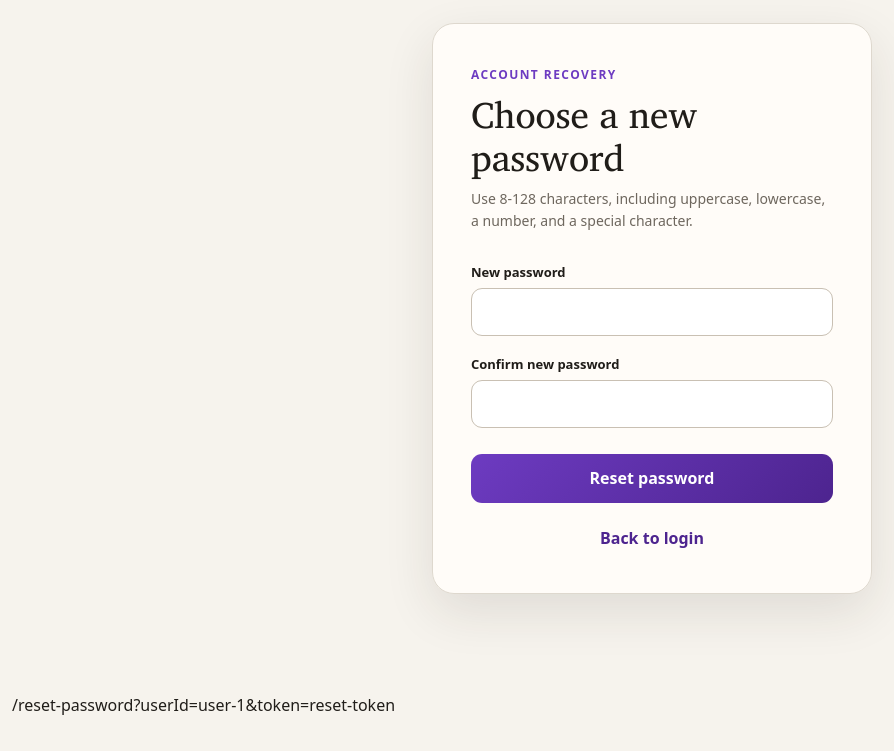
LoginPage › returns from password reset confirmation to login
This screenshot has width=894, height=751.
Click the button "Back to login" at x=652, y=538, box x1=471 y1=521 x2=833 y2=555
(page scrolled)
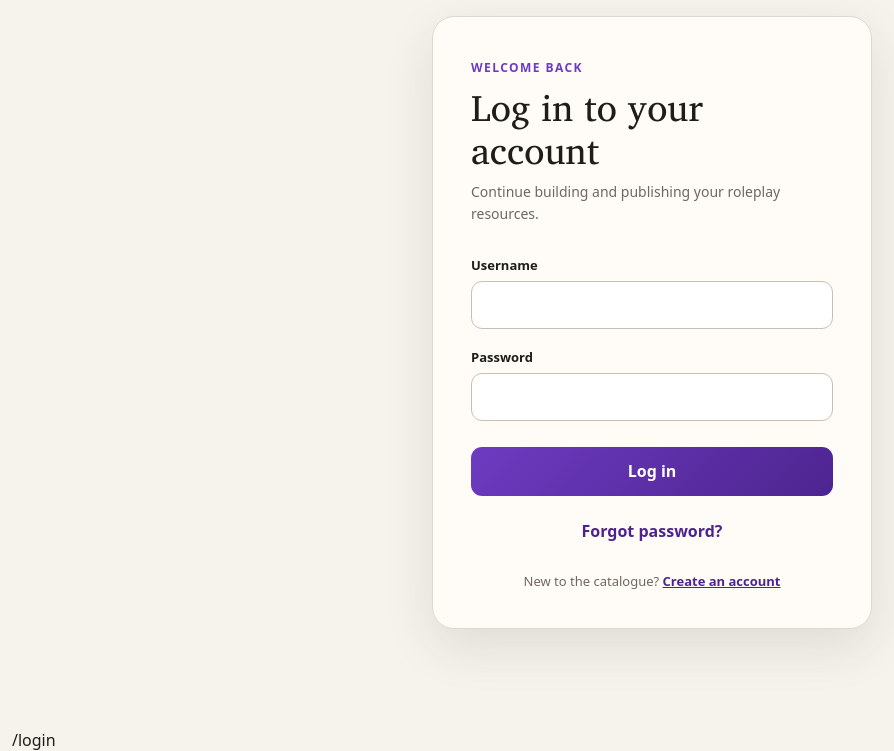
Check: the text with test id "location" reads "/login", box x1=12 y1=729 x2=56 y2=750
